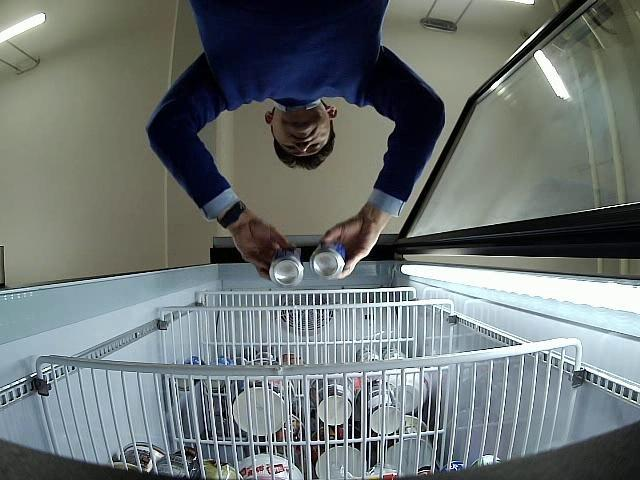13_pocariSweat: (310, 241, 346, 280), (269, 248, 304, 288)
